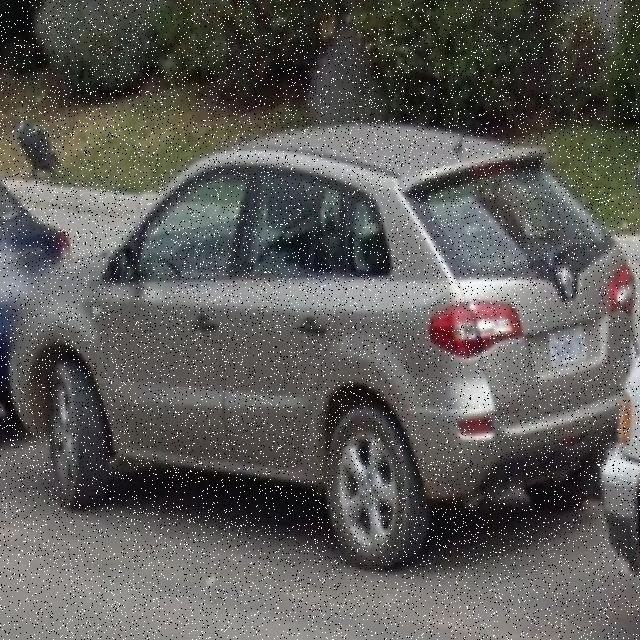cars: (16, 136, 625, 565)
